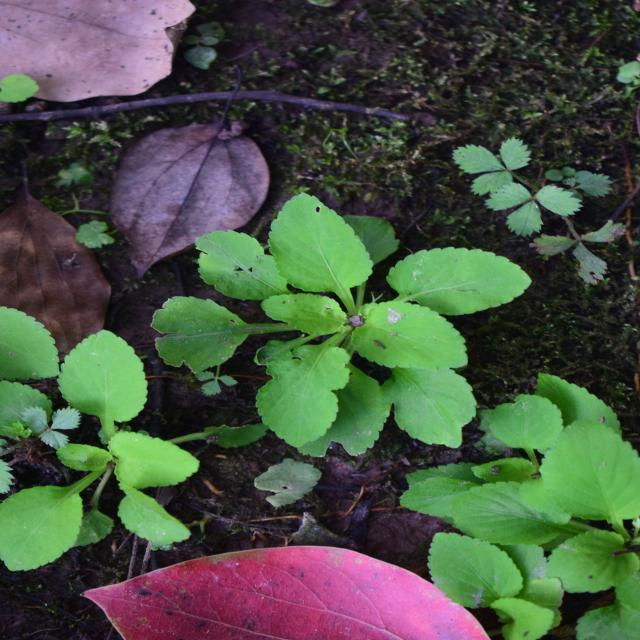Viola: (186, 206, 435, 521), (60, 15, 302, 188)
